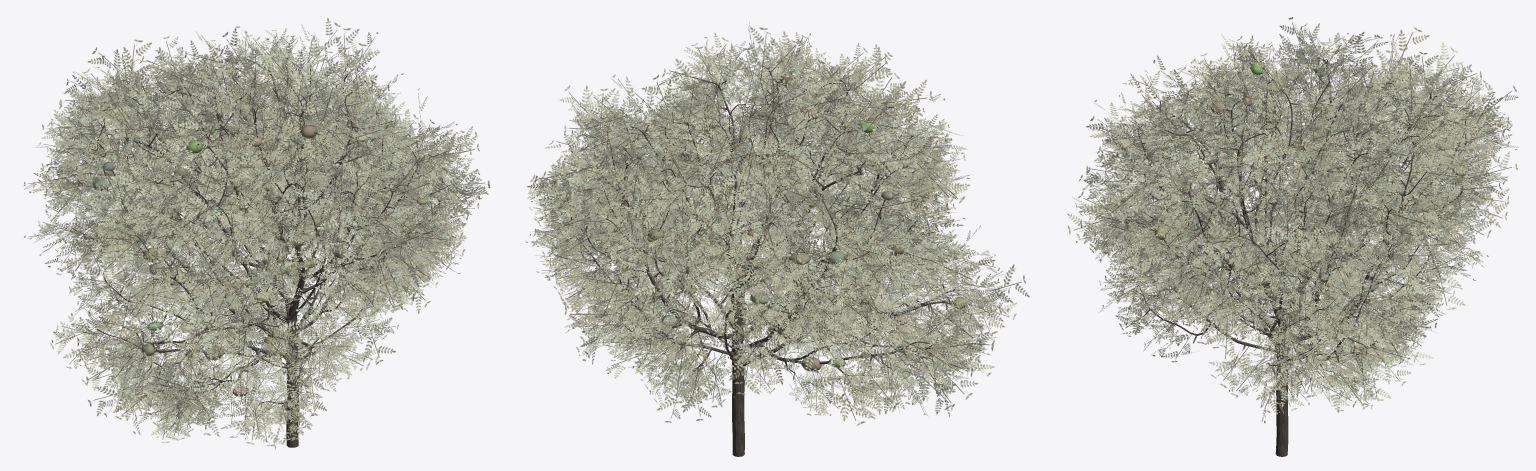
Rendered from tree_31_broadleaf.glb.
The picture shows the model from 3 angles, left to right: view 1: azimuth 30°, elevation 25°; view 2: azimuth 150°, elevation 25°; view 3: azimuth 270°, elevation 25°; orthographic projection. The views are drawn at different scales.
Visible parts, largest first — view 1: tree_31_broadleaf.leaves, tree_31_broadleaf.trunk_branches, tree_31_broadleaf.foliage_volume; view 2: tree_31_broadleaf.leaves, tree_31_broadleaf.trunk_branches, tree_31_broadleaf.foliage_volume; view 3: tree_31_broadleaf.leaves, tree_31_broadleaf.trunk_branches, tree_31_broadleaf.foliage_volume.
Boxes of the visible parts, x1,y1,x2,y2 form: tree_31_broadleaf.leaves: (23,18,489,449); tree_31_broadleaf.trunk_branches: (71,59,442,447); tree_31_broadleaf.foliage_volume: (83,97,426,396); tree_31_broadleaf.leaves: (525,21,1029,425); tree_31_broadleaf.trunk_branches: (566,61,973,456); tree_31_broadleaf.foliage_volume: (615,74,967,371); tree_31_broadleaf.leaves: (1067,17,1518,423); tree_31_broadleaf.trunk_branches: (1116,57,1471,456); tree_31_broadleaf.foliage_volume: (1154,61,1468,354).
Bounding box in the file's own units: 12.64 × 11.73 × 12.39.
Materials: 3 (2 with a texture image).
